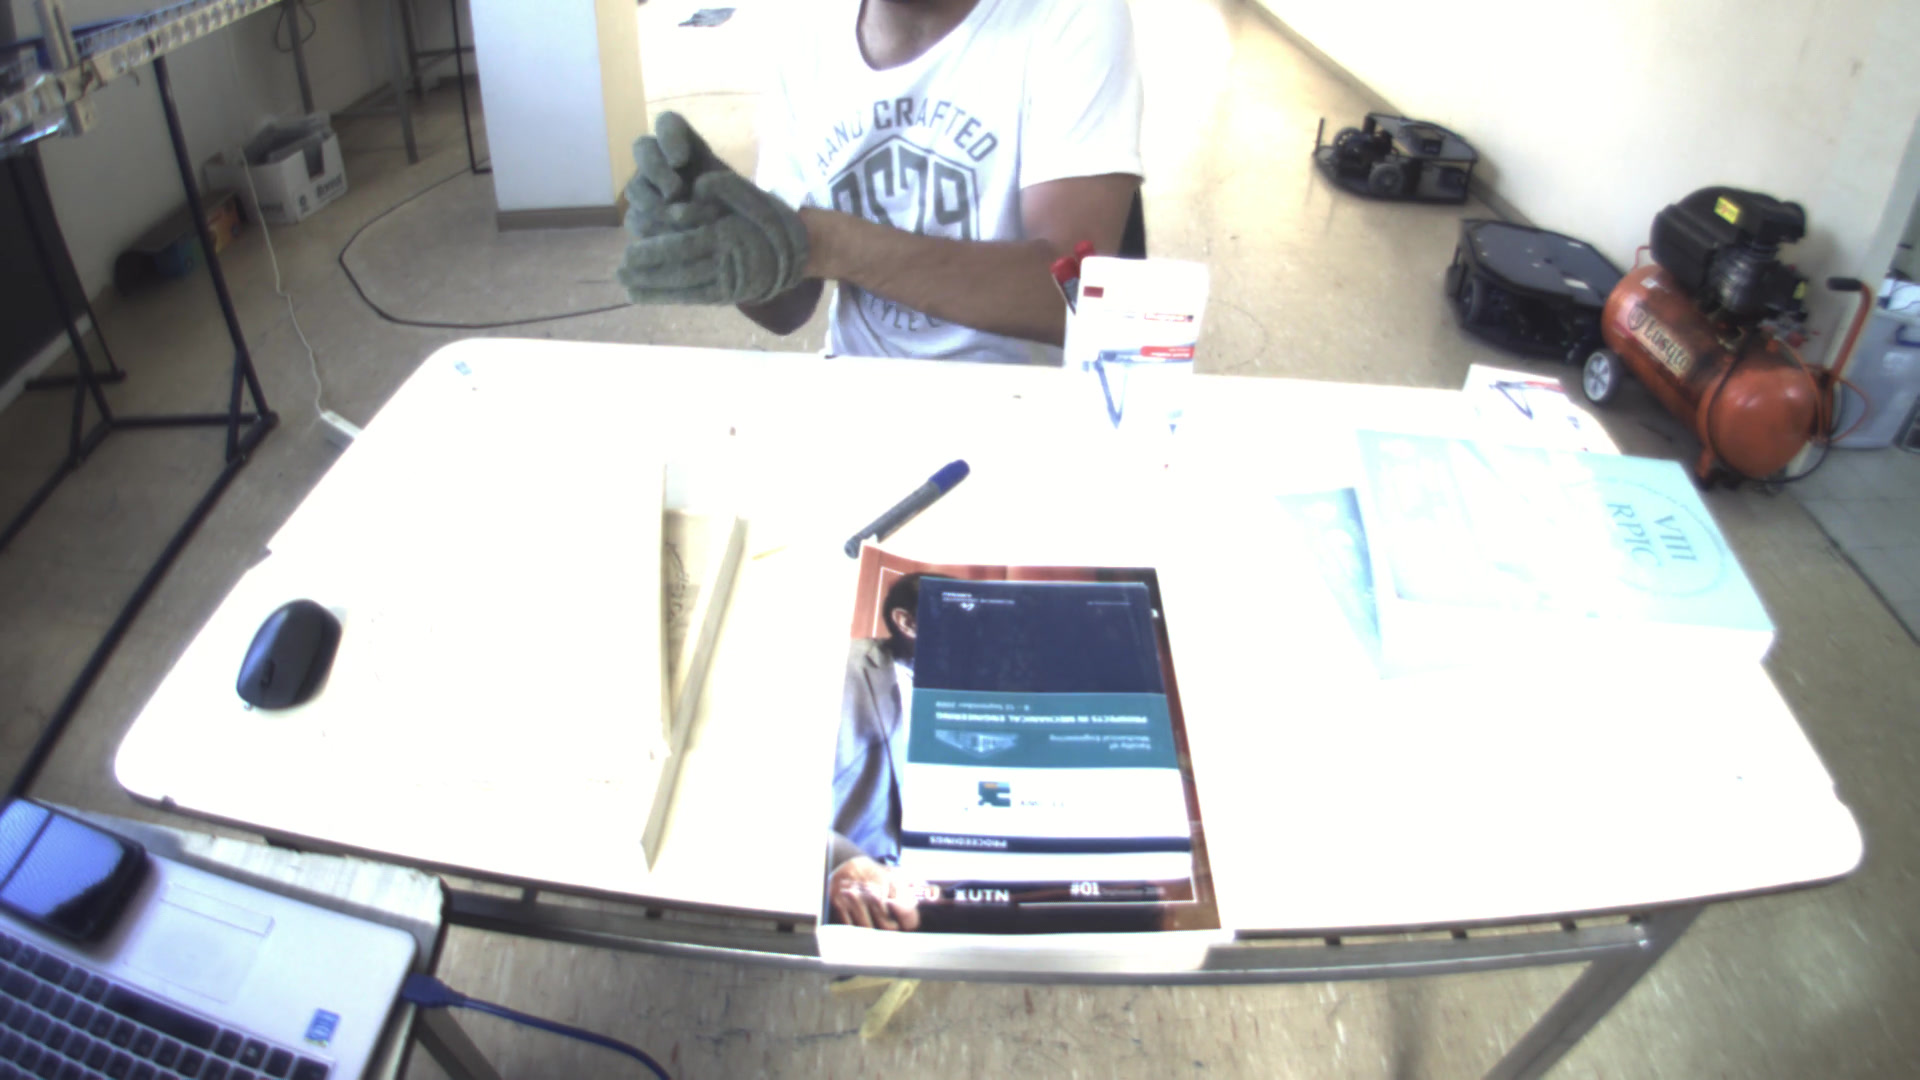hand: (597, 175, 808, 316)
